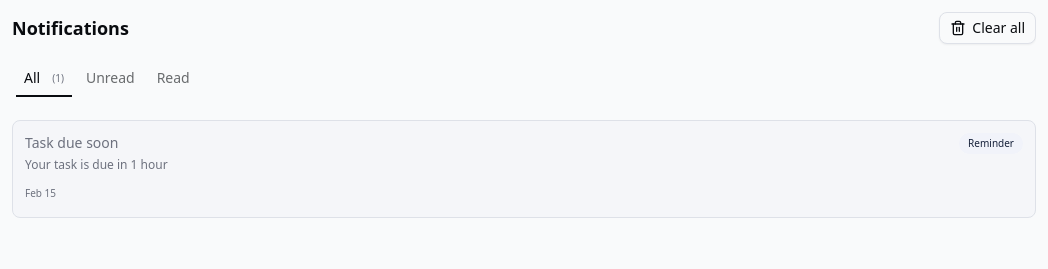
NotificationCenter › shows empty state for unread tab when no unread notifications
Click the tab "Unread" at (110, 78), box [77,64,144,92]
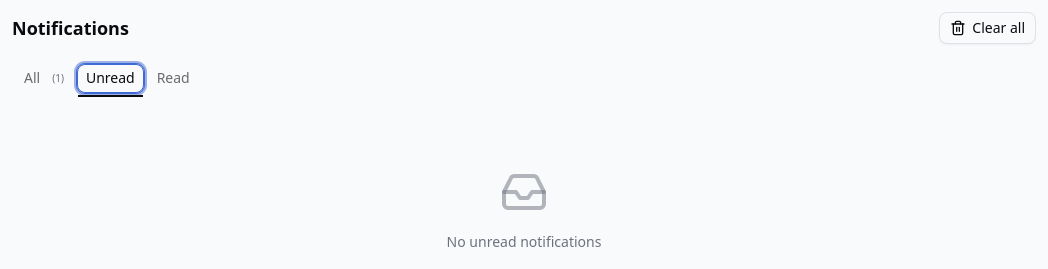
Now the text "No unread notifications" is shown, box [447,232,601,252]
